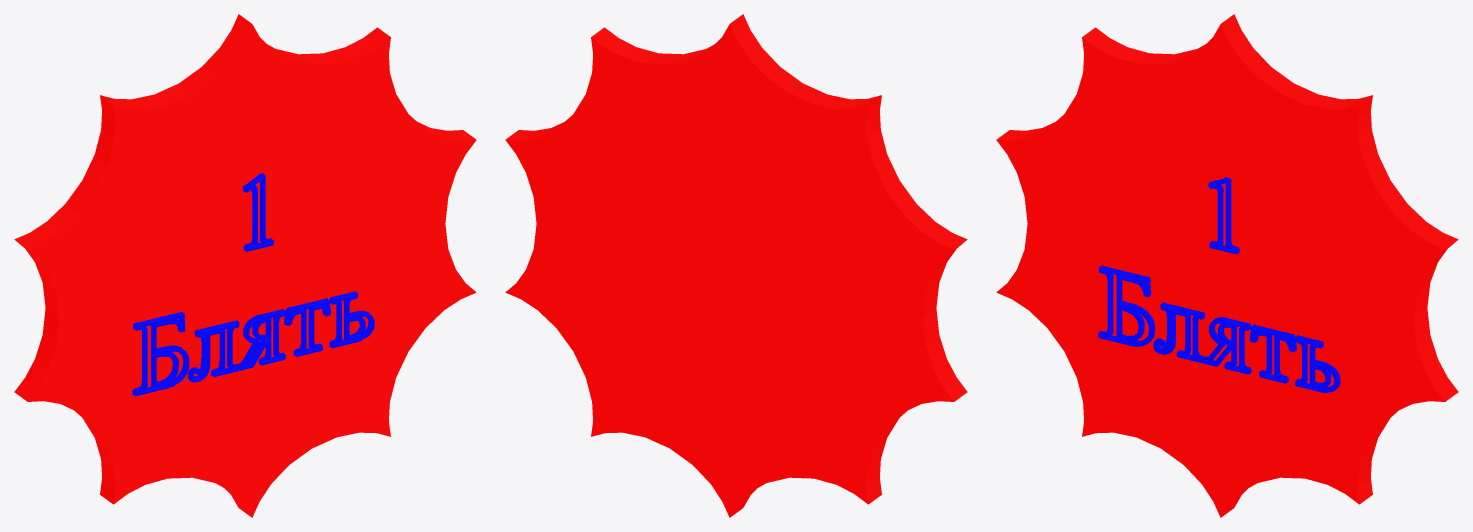
3 views of the same model, side by side, from view 1: azimuth 30°, elevation 25°; view 2: azimuth 150°, elevation 25°; view 3: azimuth 330°, elevation 25° (orthographic).
Size of the model in its own units: 0.9511 by 1 by 0.061.
